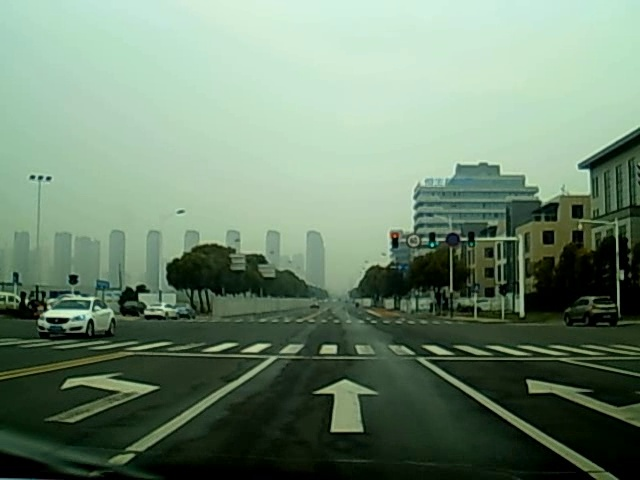Traffic_Light_go: (466, 233, 475, 248), (428, 233, 434, 249)
Traffic_Light_stop: (390, 232, 399, 249)
